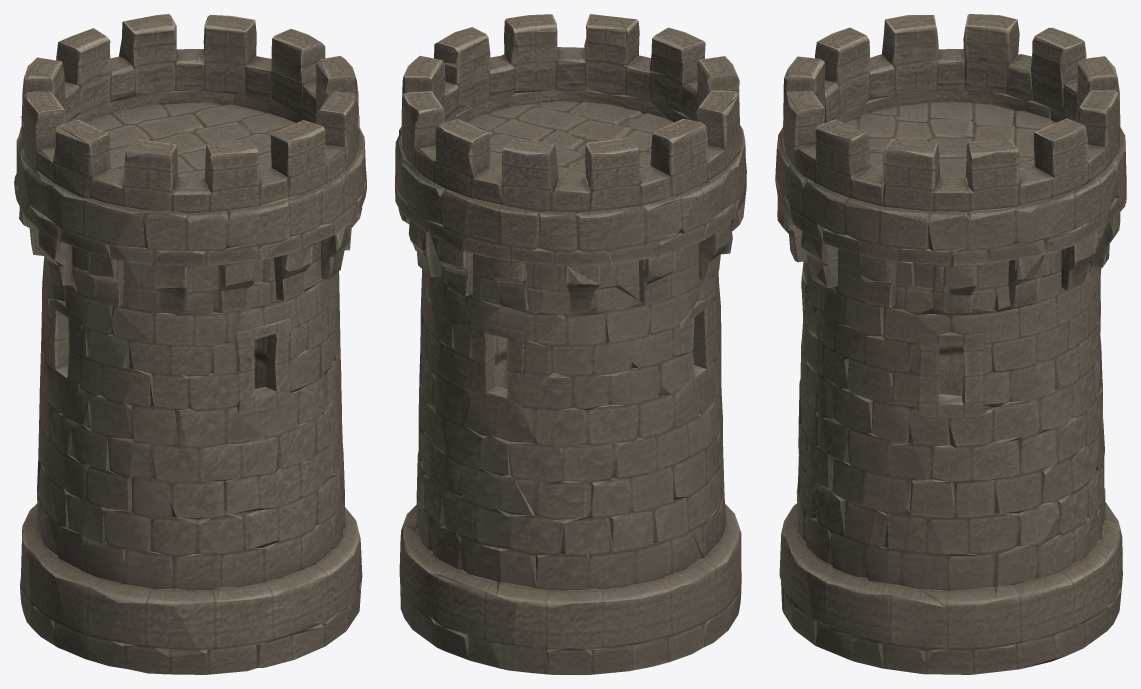
Rendered from inner_wall_tower.glb.
3 renders of one model, left to right at view 1: azimuth 30°, elevation 25°; view 2: azimuth 150°, elevation 25°; view 3: azimuth 270°, elevation 25°, orthographic.
Visible parts, largest first — view 1: output_unwrapped; view 2: output_unwrapped; view 3: output_unwrapped.
Part boxes in pixels (x1,y1,x2,y2): output_unwrapped: [14, 14, 366, 674]; output_unwrapped: [395, 14, 746, 674]; output_unwrapped: [775, 14, 1126, 674].
Bounding box in the file's own units: 1.16 × 1.9 × 1.16.
Materials: 1 (1 with a texture image).
